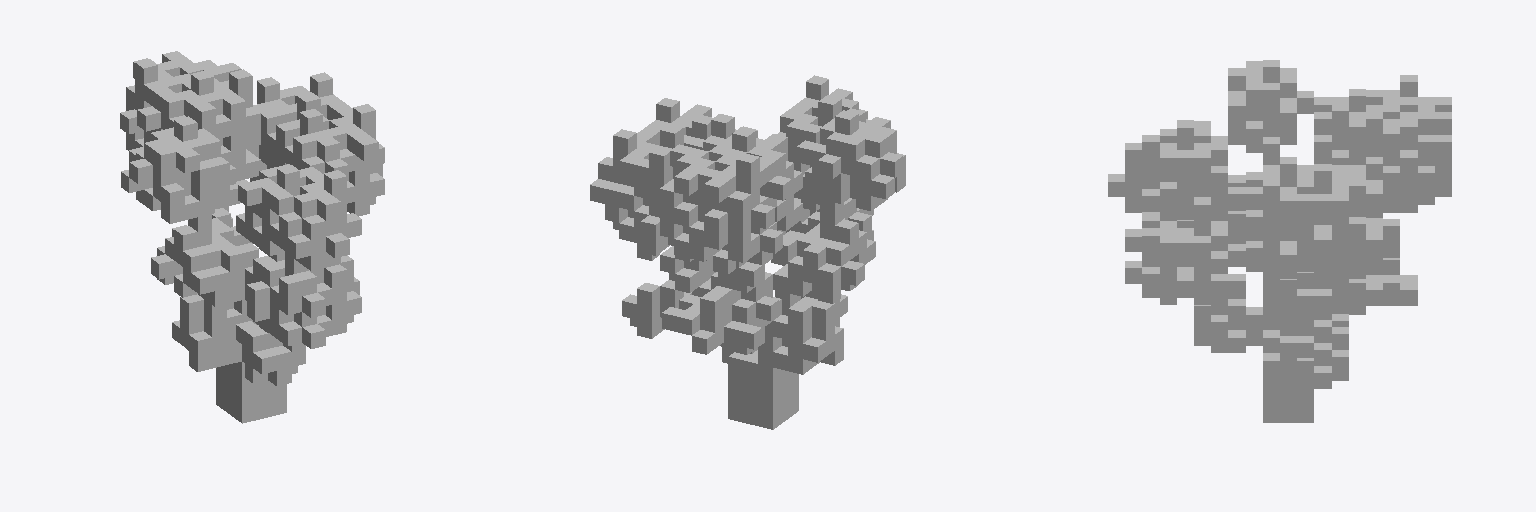
File: bush.obj
3 views of the same model, side by side, from view 1: azimuth 30°, elevation 25°; view 2: azimuth 150°, elevation 25°; view 3: azimuth 270°, elevation 25° (orthographic).
Visible parts, largest first — view 1: object 1; view 2: object 1; view 3: object 1.
Part boxes in pixels (bbox=[...]): object 1: bbox=[120, 51, 384, 423]; object 1: bbox=[590, 75, 905, 429]; object 1: bbox=[1108, 60, 1451, 422].
Bounding box in the file's own units: 1.7 × 2 × 2.